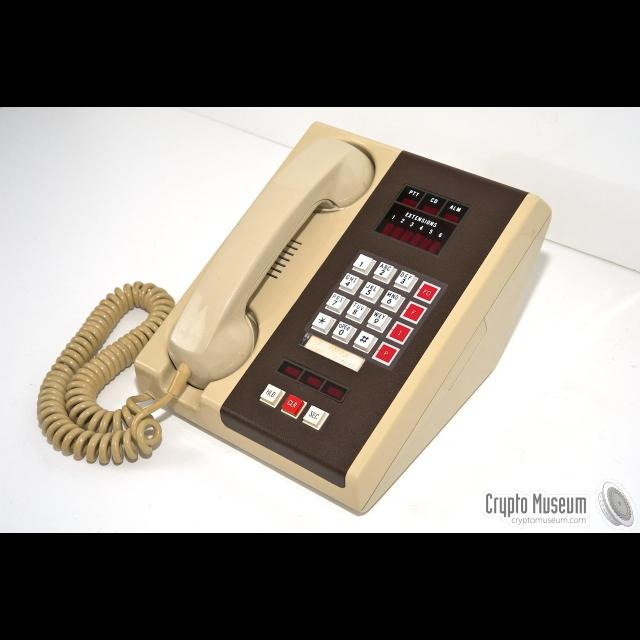Telephone-Set: (68, 123, 640, 533)
